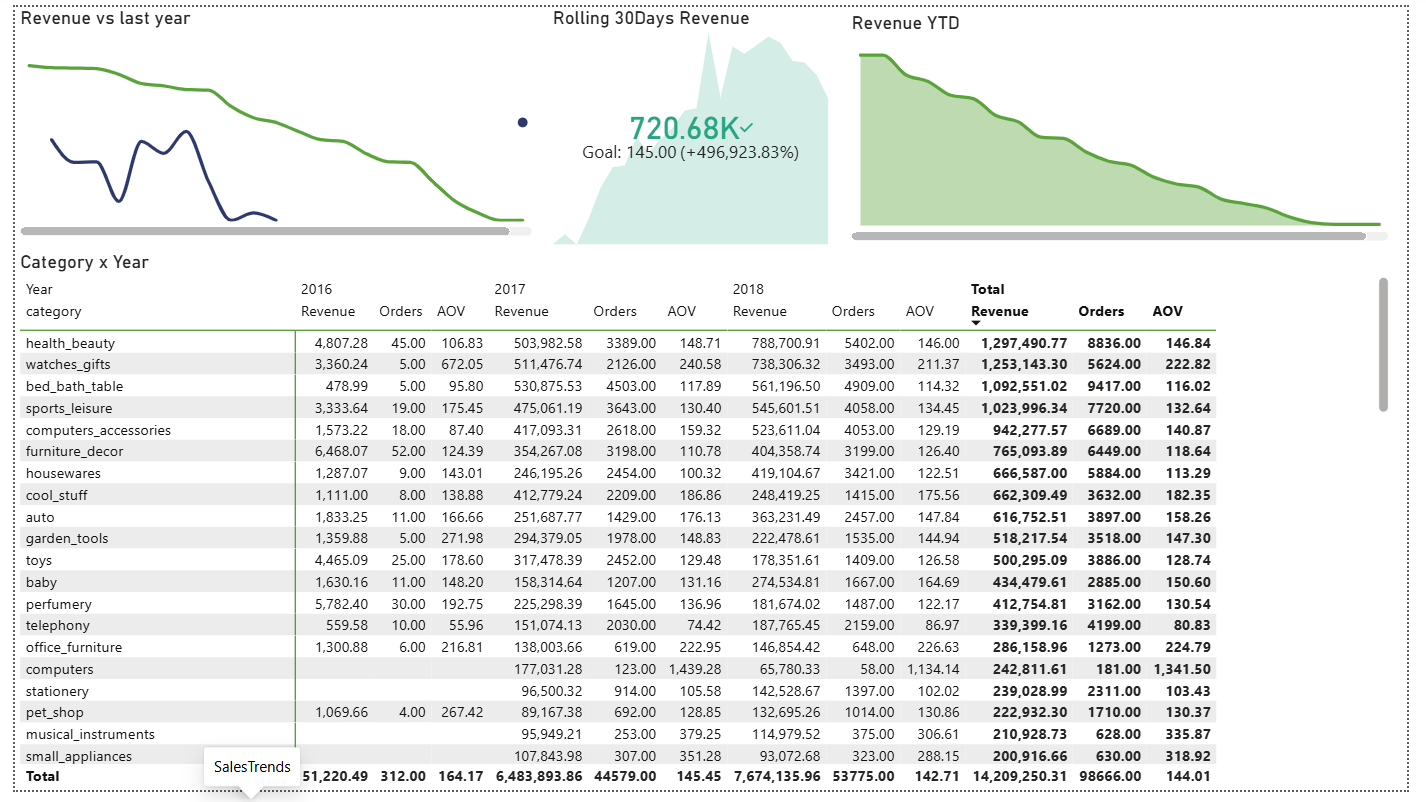

The page's visual inventory and layout, read from the dashboard file:
{"tool":"powerbi","page":{"name":"SalesTrends","canvas":[1280,720],"ordinal":1},"visuals":[{"type":"lineChart","title":"Revenue vs last year","fields":{"Category":["DimDate.Year-Month"],"Y":["public bi_fact_sales.Revenue","public bi_fact_sales.Revenue LY"]},"box":[0,0,480.3,215.4],"z":0},{"type":"kpi","title":"Rolling 30Days Revenue","fields":{"TrendLine":["DimDate.Year-Month"],"Indicator":["public bi_fact_sales.Rolling 30D Revenue"],"Goal":["public bi_fact_sales.Revenue"]},"box":[489.9,0,263.5,223.7],"z":1000},{"type":"areaChart","title":"Revenue YTD","fields":{"Category":["DimDate.Year-Month"],"Y":["public bi_fact_sales.Revenue YTD"]},"box":[764.3,4.1,503.6,215.4],"z":2000},{"type":"pivotTable","title":"Category x Year","fields":{"Values":["public bi_fact_sales.Revenue","public bi_fact_sales.Orders","public bi_fact_sales.AOV"],"Columns":["DimDate.Year"],"Rows":["public bi_fact_sales.category"]},"box":[0,223.7,1267.9,496.7],"z":3000}]}

Visuals, with their boxes on the page's 1280x720 design canvas (x1, y1, x2, y2). These are canvas units, not pixel positions in the 1426x802 screenshot, which may show the page scaled, cropped or inside an application window:
"Revenue vs last year" lineChart: [left=0, top=0, right=480, bottom=215]
"Rolling 30Days Revenue" kpi: [left=490, top=0, right=753, bottom=224]
"Revenue YTD" areaChart: [left=764, top=4, right=1268, bottom=220]
"Category x Year" pivotTable: [left=0, top=224, right=1268, bottom=720]
